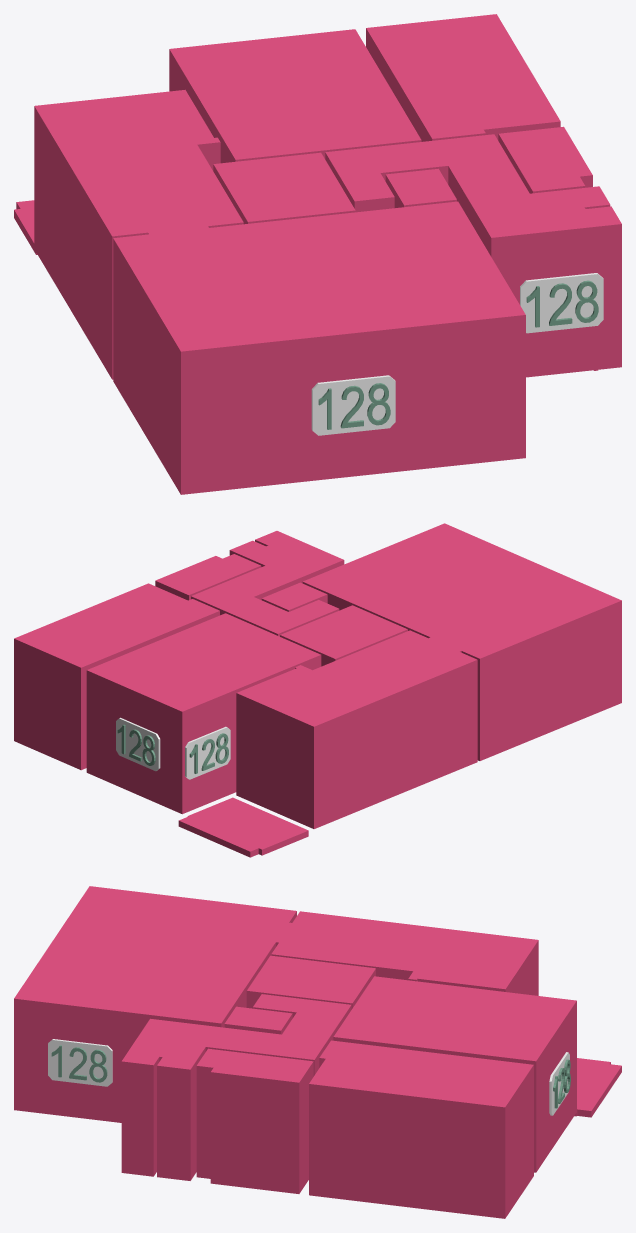
3 views of the same model, one above another, from view 1: azimuth 30°, elevation 25°; view 2: azimuth 150°, elevation 25°; view 3: azimuth 270°, elevation 25° (orthographic). The views are drawn at different scales.
Visible parts, largest first — view 1: g_7, g_6, g_3, g_0, g_1, g_4, g_2, g_24, g_16, g_5, g_8; view 2: g_7, g_6, g_0, g_1, g_3, g_8, g_4, g_2, g_28, g_12, g_5; view 3: g_7, g_1, g_0, g_3, g_2, g_6, g_4, g_20, g_8, g_5, g_28.
Part boxes in pixels (x1,y1,x2,y2): g_7: [113, 201, 525, 494]; g_6: [34, 89, 243, 379]; g_3: [325, 134, 621, 377]; g_0: [169, 29, 421, 163]; g_1: [366, 14, 560, 141]; g_4: [213, 152, 355, 224]; g_2: [498, 126, 592, 193]; g_24: [311, 375, 395, 435]; g_16: [520, 273, 603, 333]; g_5: [385, 168, 456, 207]; g_8: [14, 200, 37, 254]; g_7: [302, 523, 621, 760]; g_6: [236, 630, 477, 828]; g_0: [86, 613, 321, 814]; g_1: [14, 583, 219, 770]; g_3: [191, 531, 344, 636]; g_8: [178, 797, 308, 857]; g_4: [280, 605, 407, 666]; g_2: [155, 554, 261, 600]; g_28: [116, 717, 160, 771]; g_12: [185, 726, 230, 779]; g_5: [261, 582, 327, 611]; g_7: [14, 886, 296, 1122]; g_1: [309, 1040, 533, 1218]; g_0: [333, 976, 576, 1172]; g_3: [121, 994, 351, 1180]; g_2: [196, 1048, 313, 1193]; g_6: [271, 911, 538, 995]; g_4: [246, 955, 375, 1009]; g_20: [48, 1039, 112, 1086]; g_8: [574, 1058, 621, 1117]; g_5: [224, 1006, 292, 1034]; g_28: [549, 1052, 569, 1115].
Bounding box in the file's own units: 10.96 × 2.74 × 12.73.
